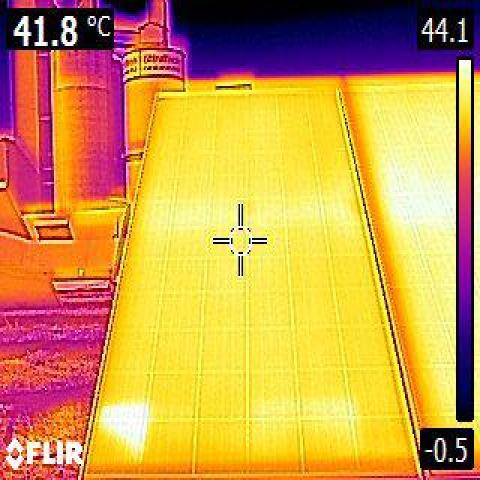fault: (96, 406, 142, 461)
